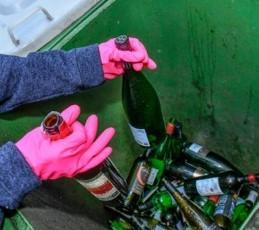glass: (40, 108, 128, 208), (111, 33, 171, 147), (112, 140, 160, 215), (158, 173, 221, 230), (183, 139, 256, 188), (181, 170, 258, 201), (142, 122, 176, 188), (212, 171, 239, 228)
